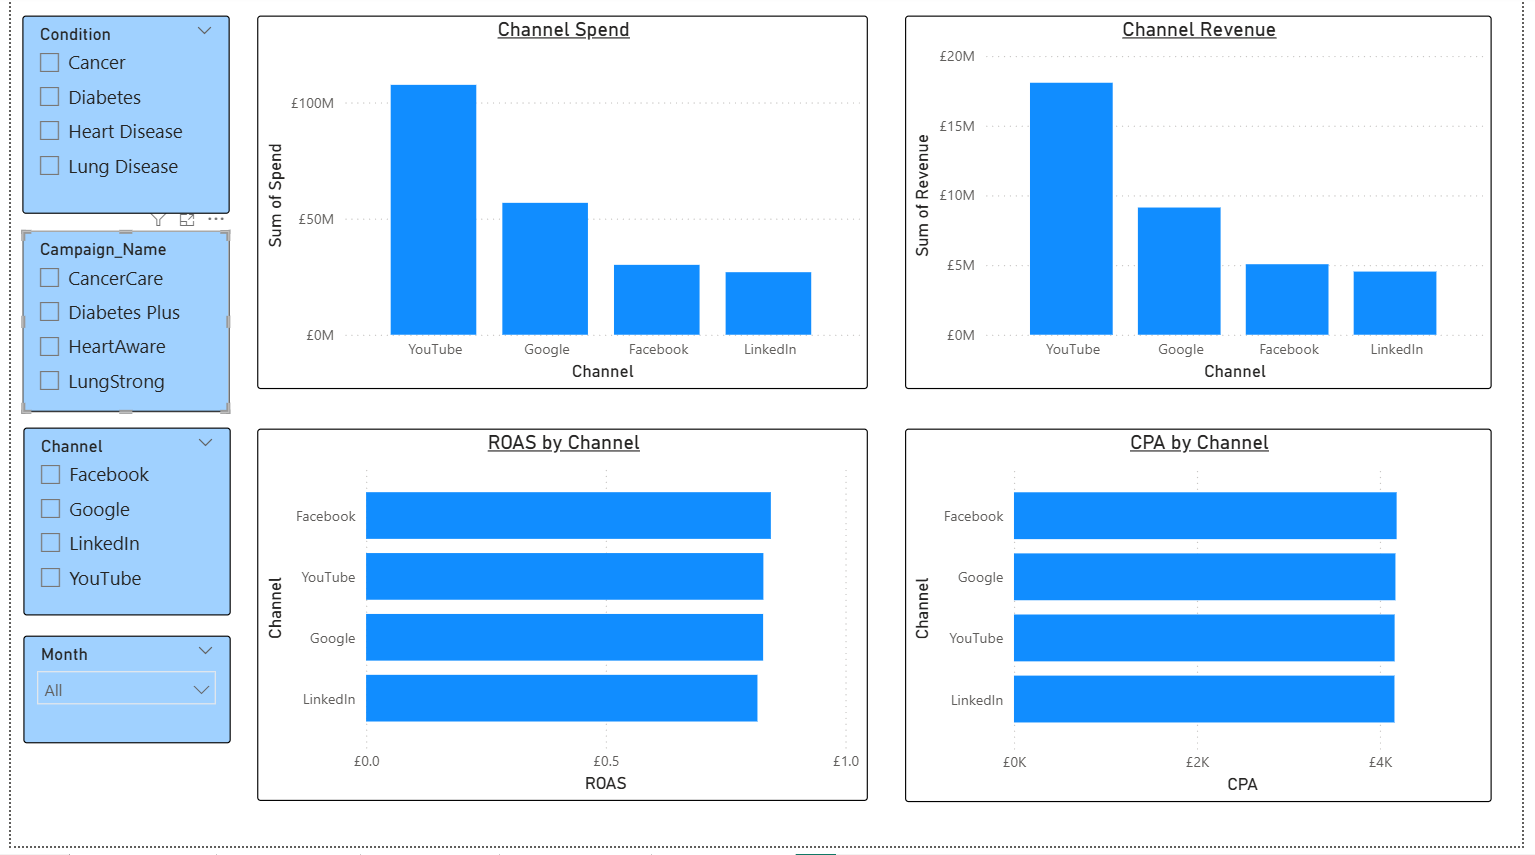

What the dashboard file says about the page in this screenshot:
{"tool":"powerbi","page":{"name":"Media Performance","canvas":[1280,720],"ordinal":3},"visuals":[{"type":"slicer","fields":{"Values":["Dashboard_Data(in).Channel"]},"box":[10.5,365.7,175.4,158.8],"z":0},{"type":"slicer","fields":{"Values":["Dashboard_Data(in).Campaign_Name"]},"box":[9.6,199,175.4,153.6],"z":1},{"type":"slicer","fields":{"Values":["DateTable.Month"]},"box":[10.5,542,175.4,91.6],"z":2},{"type":"clusteredColumnChart","title":"Channel Spend","fields":{"Category":["Dashboard_Data(in).Channel"],"Y":["Sum(Dashboard_Data(in).Spend)"]},"box":[208.7,17,517.7,316.2],"z":3},{"type":"clusteredColumnChart","title":"Channel Revenue","fields":{"Category":["Dashboard_Data(in).Channel"],"Y":["Sum(Dashboard_Data(in).Revenue)"]},"box":[757.7,17,497.1,316.2],"z":4},{"type":"clusteredBarChart","fields":{"Category":["clean_campaign.Channel"],"Y":["Measure.ROAS"]},"box":[208.7,366.3,517.7,315.3],"z":5},{"type":"clusteredBarChart","fields":{"Category":["clean_campaign.Channel"],"Y":["Measure.CPA"]},"box":[757.7,366.3,497.1,316.2],"z":6},{"type":"slicer","fields":{"Values":["clean_audience(in).Condition"]},"box":[9.6,16.6,175.4,168.4],"z":7}]}

Visuals, with their boxes in screenshot pixels (x1, y1, x2, y2), scaled from the page's 1280x720 canvas onto the 1535x855 screenshot:
slicer - Dashboard_Data(in).Channel: (13, 434, 223, 623)
slicer - Dashboard_Data(in).Campaign_Name: (12, 236, 222, 419)
slicer - DateTable.Month: (13, 644, 223, 752)
"Channel Spend" clusteredColumnChart: (250, 20, 871, 396)
"Channel Revenue" clusteredColumnChart: (909, 20, 1505, 396)
clusteredBarChart - clean_campaign.Channel x Measure.ROAS: (250, 435, 871, 809)
clusteredBarChart - clean_campaign.Channel x Measure.CPA: (909, 435, 1505, 810)
slicer - clean_audience(in).Condition: (12, 20, 222, 220)
